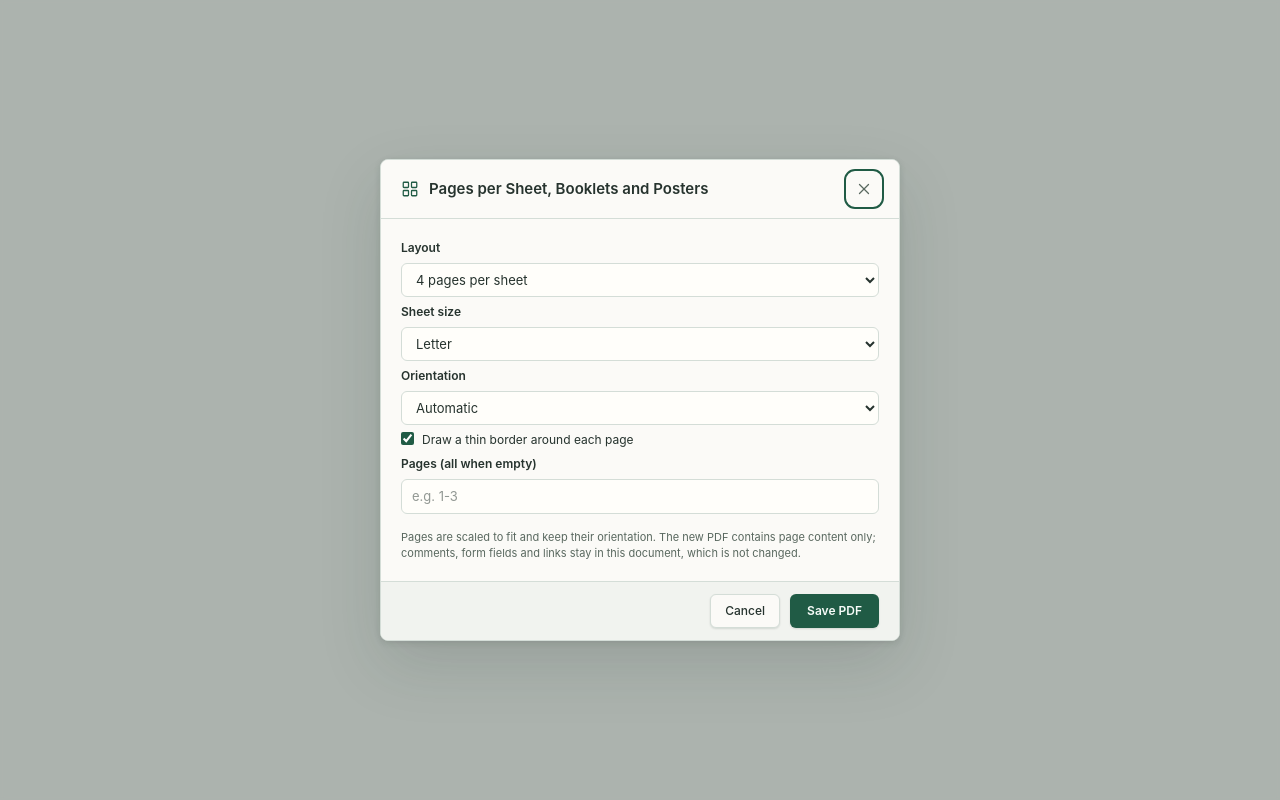
Test: ImposeDialog › validates the page range before arranging
The image size is (1280, 800).
Step 1. Type "2-" into the field labelled "Pages (all when empty)" → (640, 497), box x1=401 y1=479 x2=879 y2=514
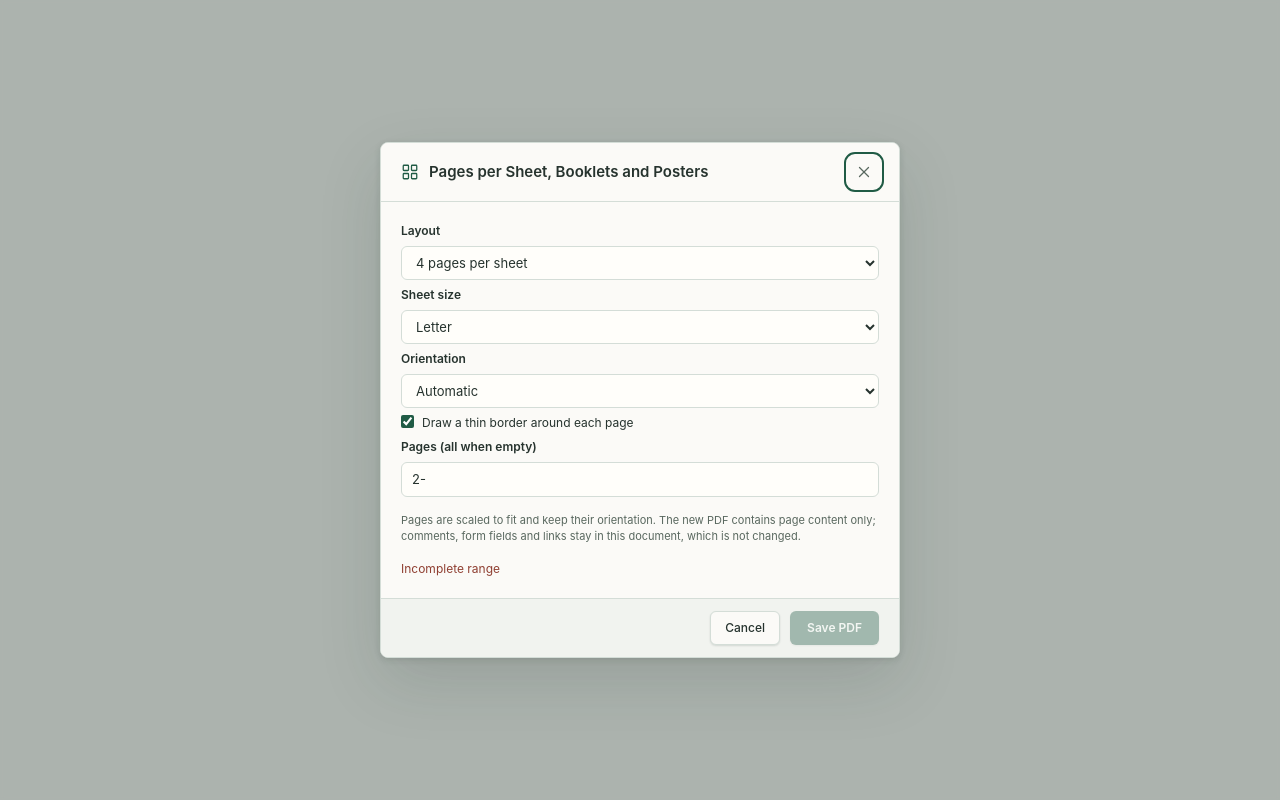
Now the message reads "Incomplete range", box x1=401 y1=561 x2=500 y2=576
Now the button "Save PDF" is disabled, box x1=790 y1=611 x2=879 y2=645
